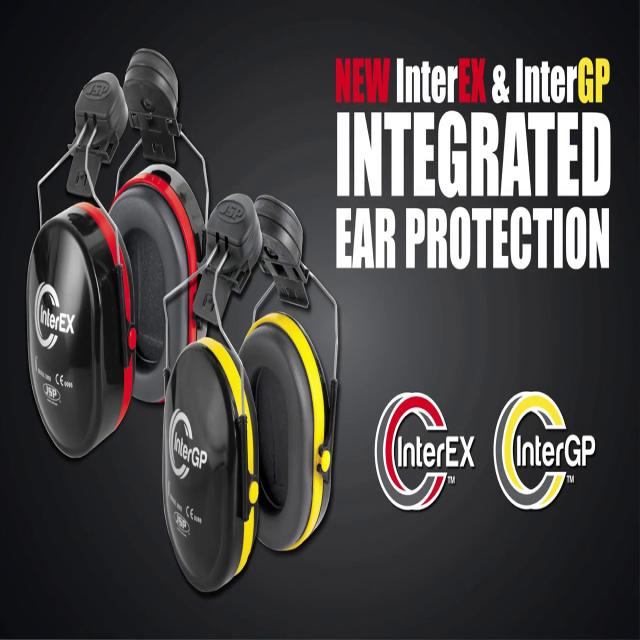earmuff: (22, 198, 138, 467), (157, 333, 262, 607), (106, 161, 210, 416), (236, 303, 336, 559)
